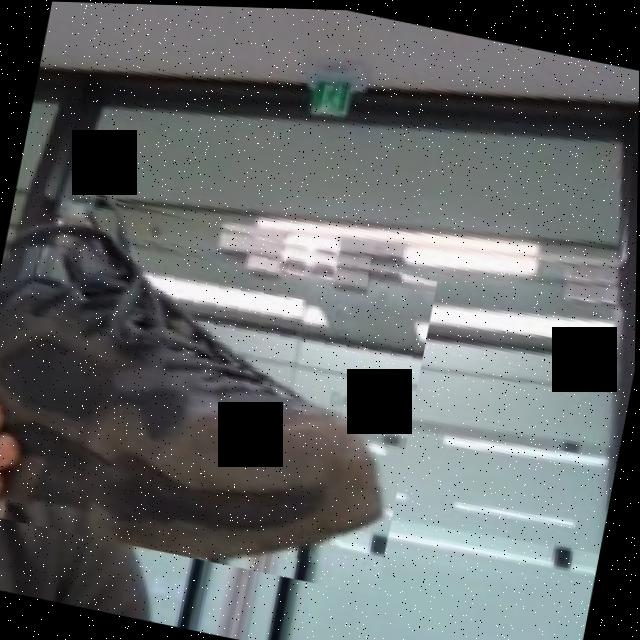shoe: (0, 174, 442, 594)
